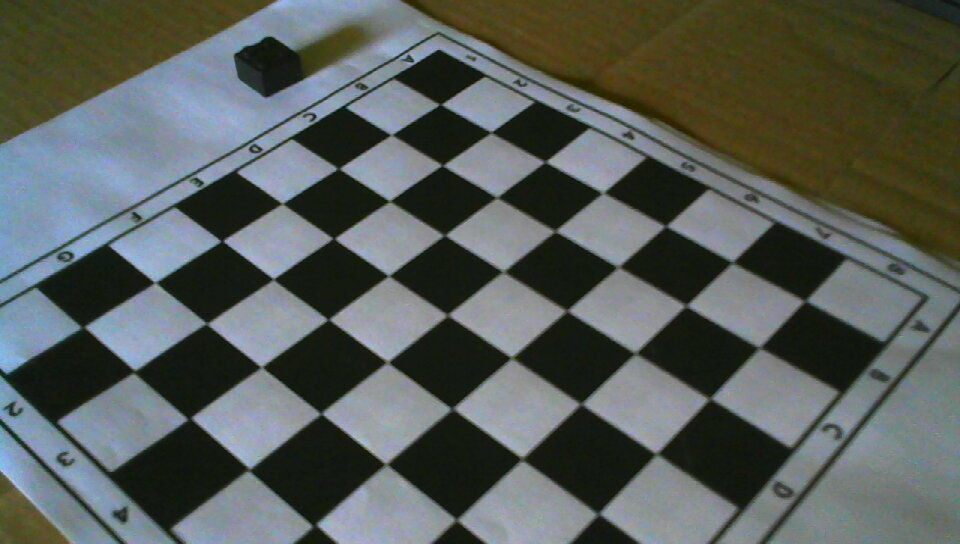bp: (235, 36, 303, 95)
